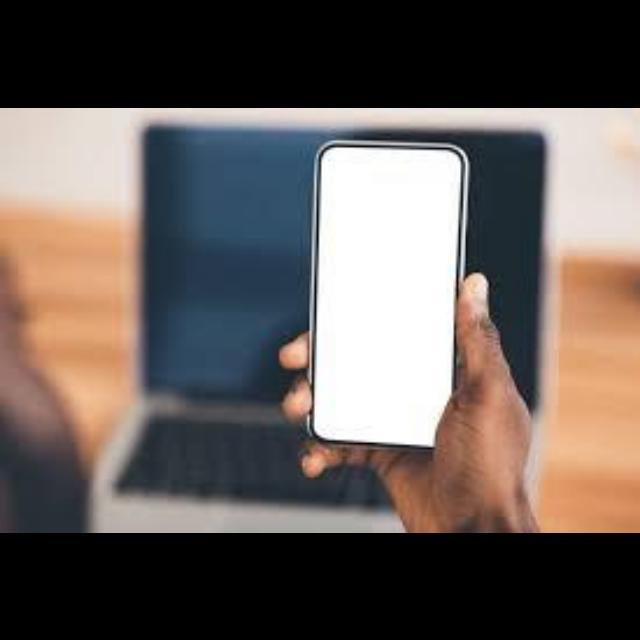Phone: (314, 138, 468, 448)
